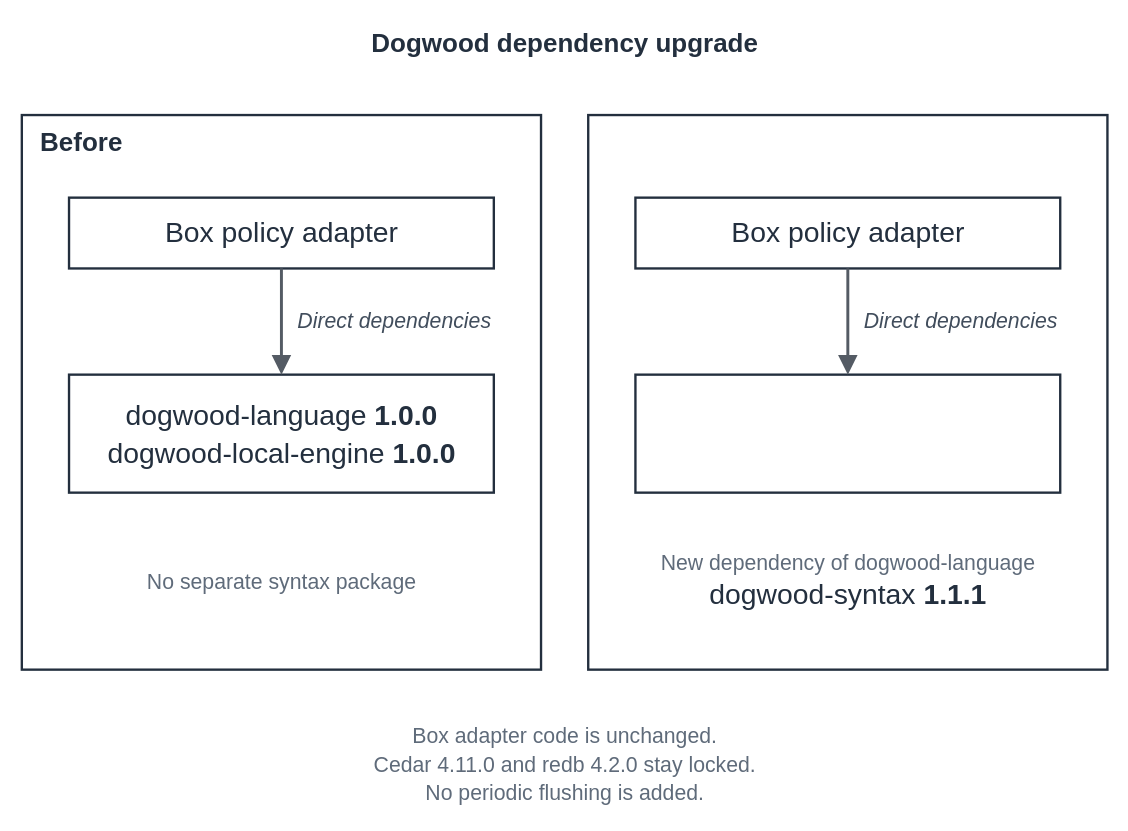
This 1128x831 diagram has some shape labels left out. The box of each missing label's shape, as (x1, y1, x2, y2) in pixels:
After: (586, 113, 1108, 670)
dogwood-language 1.1.1 dogwood-local-engine 1.1.1: (634, 373, 1061, 493)
